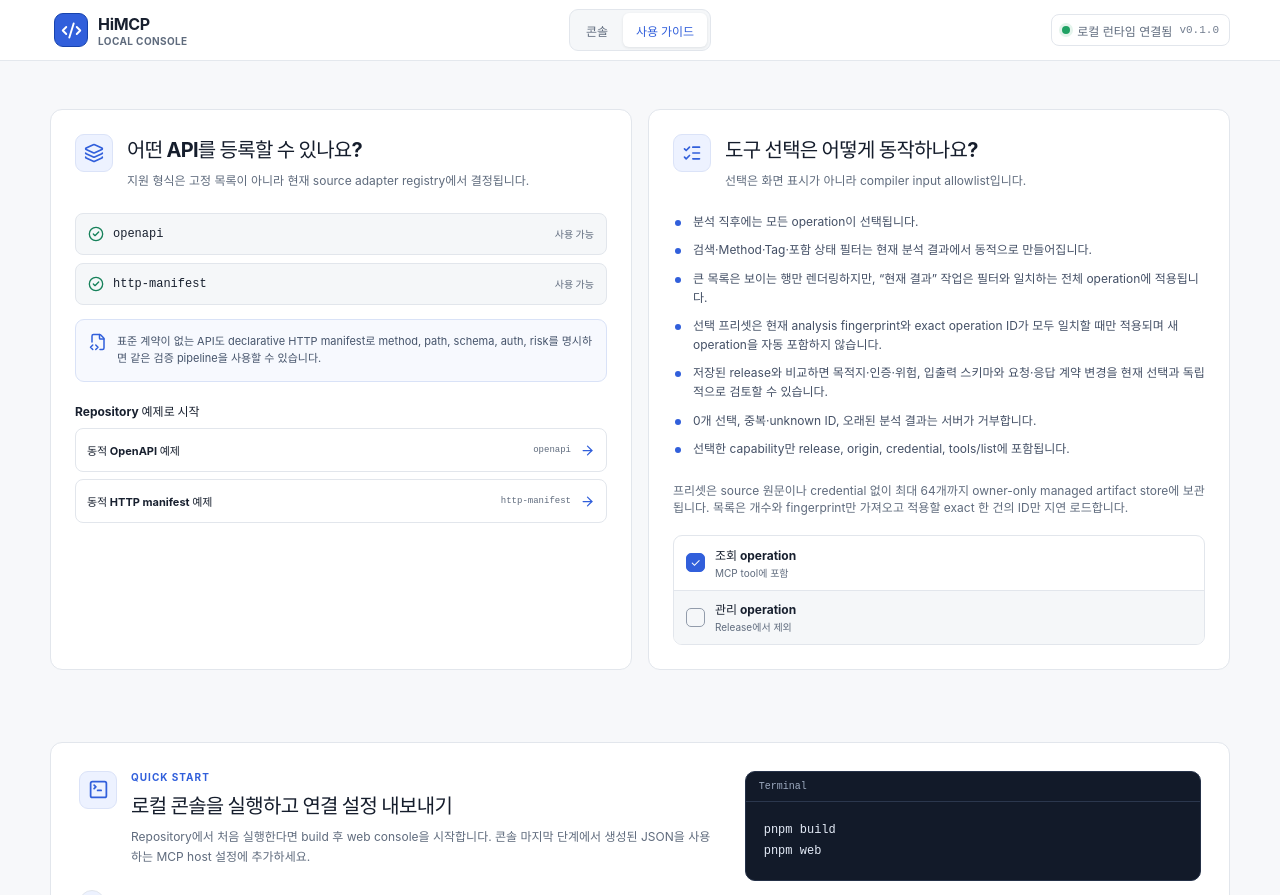
it: local console client › supports direct guide entry and renders runtime capabilities from API responses
(page scrolled)
Expected: the 1st text "openapi" is shown, [113, 227, 163, 241]
Expected: the 1st text "http-manifest" is shown, [113, 277, 207, 291]
Step 1. Click the button "동적 OpenAPI 예제 openapi" → (133, 451), box [75, 428, 607, 472]
(page scrolled)
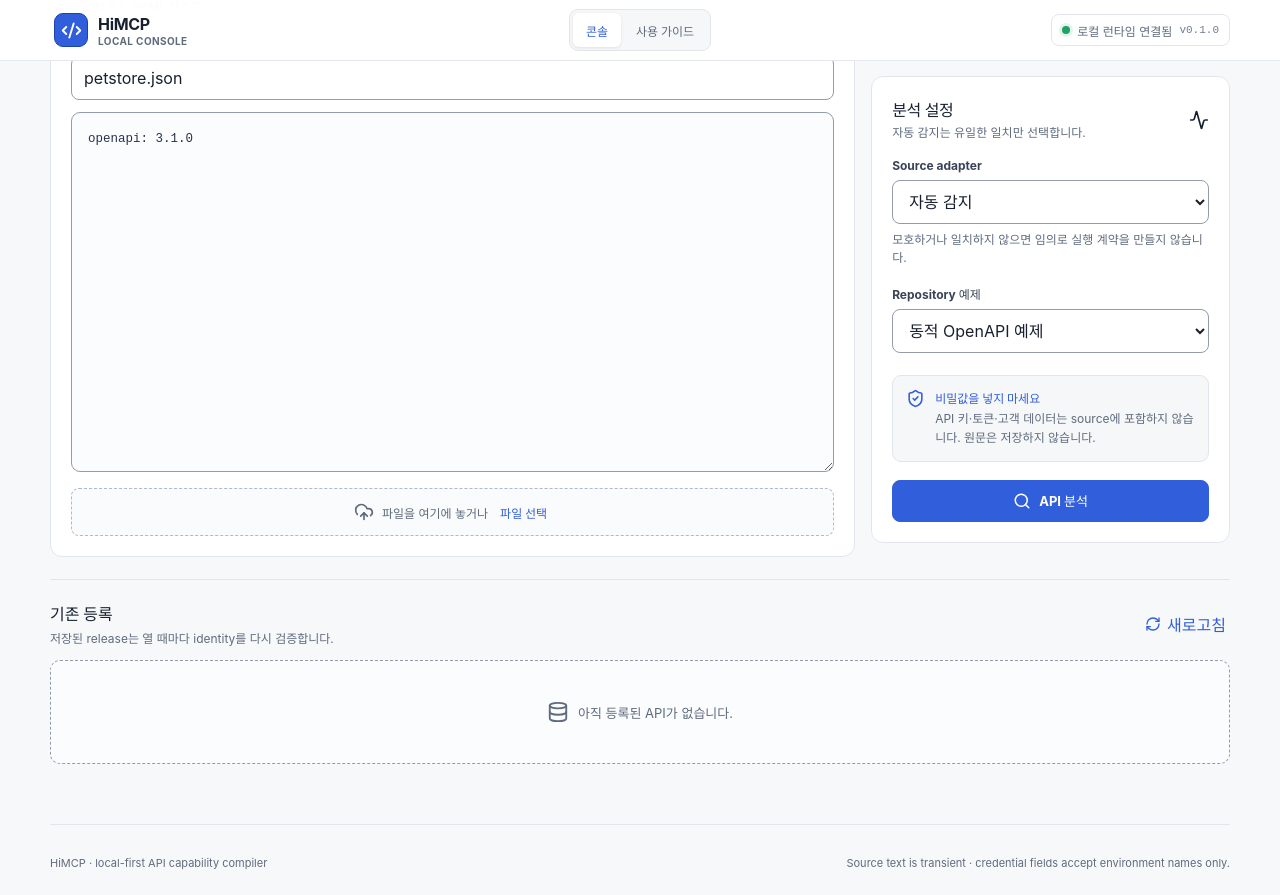
Result: the text box named "JSON 또는 YAML API source" holds "openapi: 3.1.0" at [71, 112, 834, 472]
